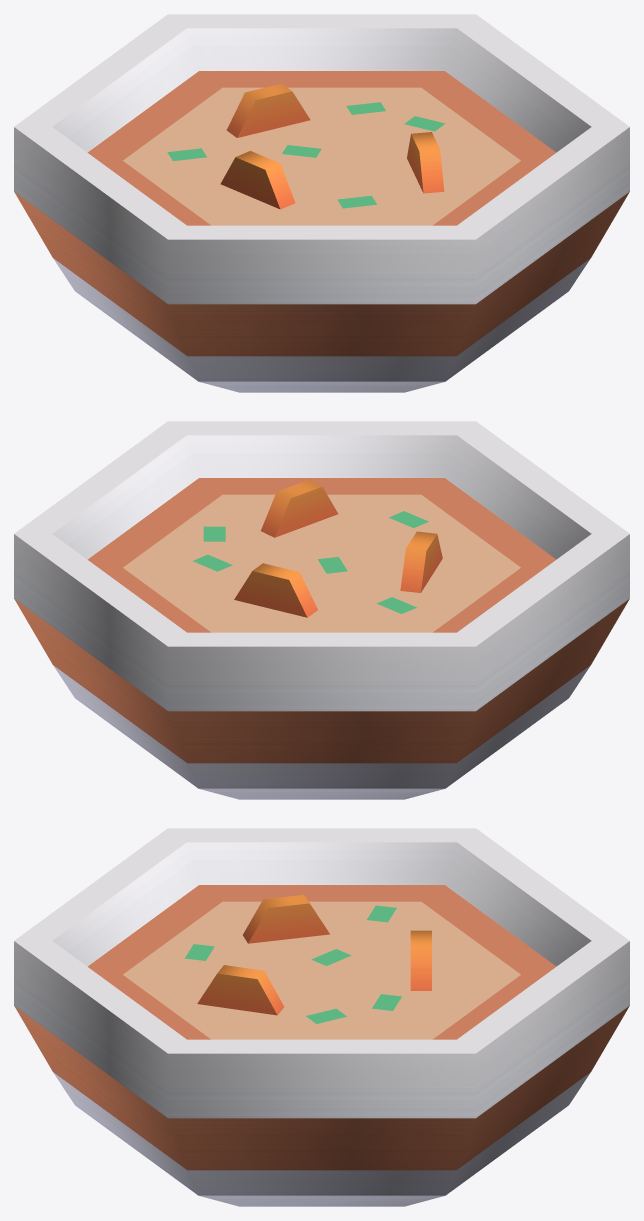
The model's file is bowl-soup.glb.
3 renders of one model, top to bottom at view 1: azimuth 30°, elevation 25°; view 2: azimuth 150°, elevation 25°; view 3: azimuth 270°, elevation 25°, orthographic.
Parts seen in each view (by area): view 1: bowl-soup; view 2: bowl-soup; view 3: bowl-soup.
Boxes of the visible parts, x1,y1,x2,y2 form: bowl-soup: (14,14,629,392); bowl-soup: (14,421,629,799); bowl-soup: (14,828,629,1206).
Bounding box in the file's own units: 0.5022 × 0.2139 × 0.5798.
1 material, 1 textured.
